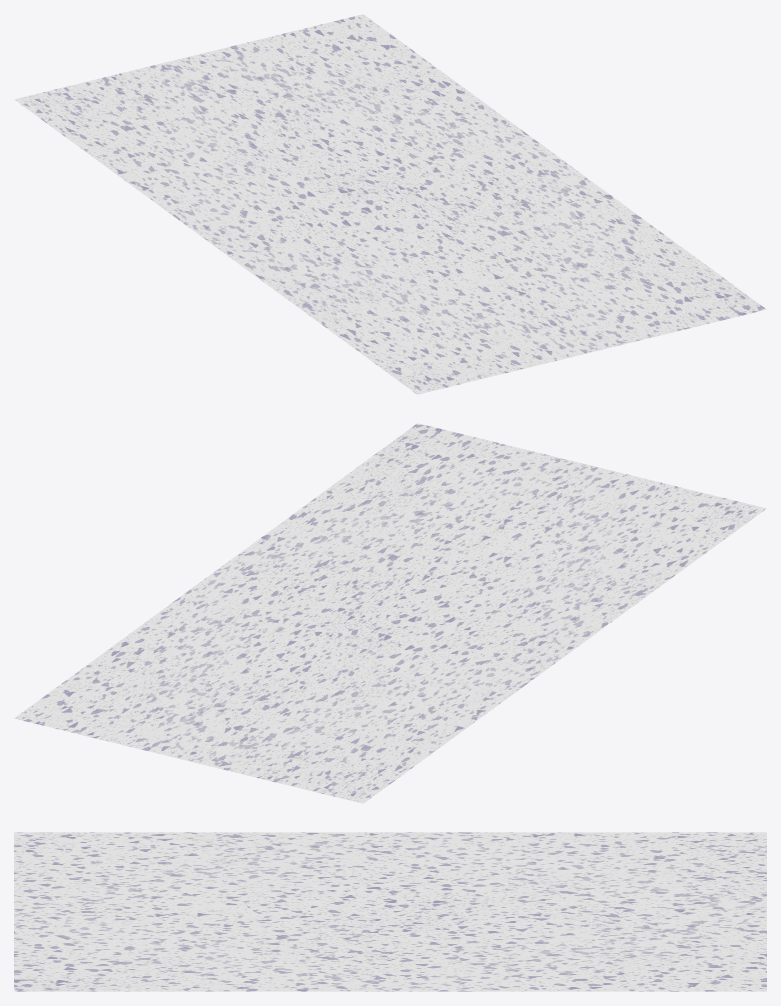
File: Lattia_Luokkahuone.fbx
The picture shows the model from 3 angles, top to bottom: view 1: azimuth 30°, elevation 25°; view 2: azimuth 150°, elevation 25°; view 3: azimuth 270°, elevation 25°; orthographic projection. The views are drawn at different scales.
Visible parts, largest first — view 1: Lattia; view 2: Lattia; view 3: Lattia.
Part boxes in pixels (x1,y1,x2,y2): Lattia: (14, 14, 766, 394); Lattia: (14, 423, 766, 803); Lattia: (14, 832, 766, 991).
Bounding box in the file's own units: 1250 × 0.000407 × 2500.
